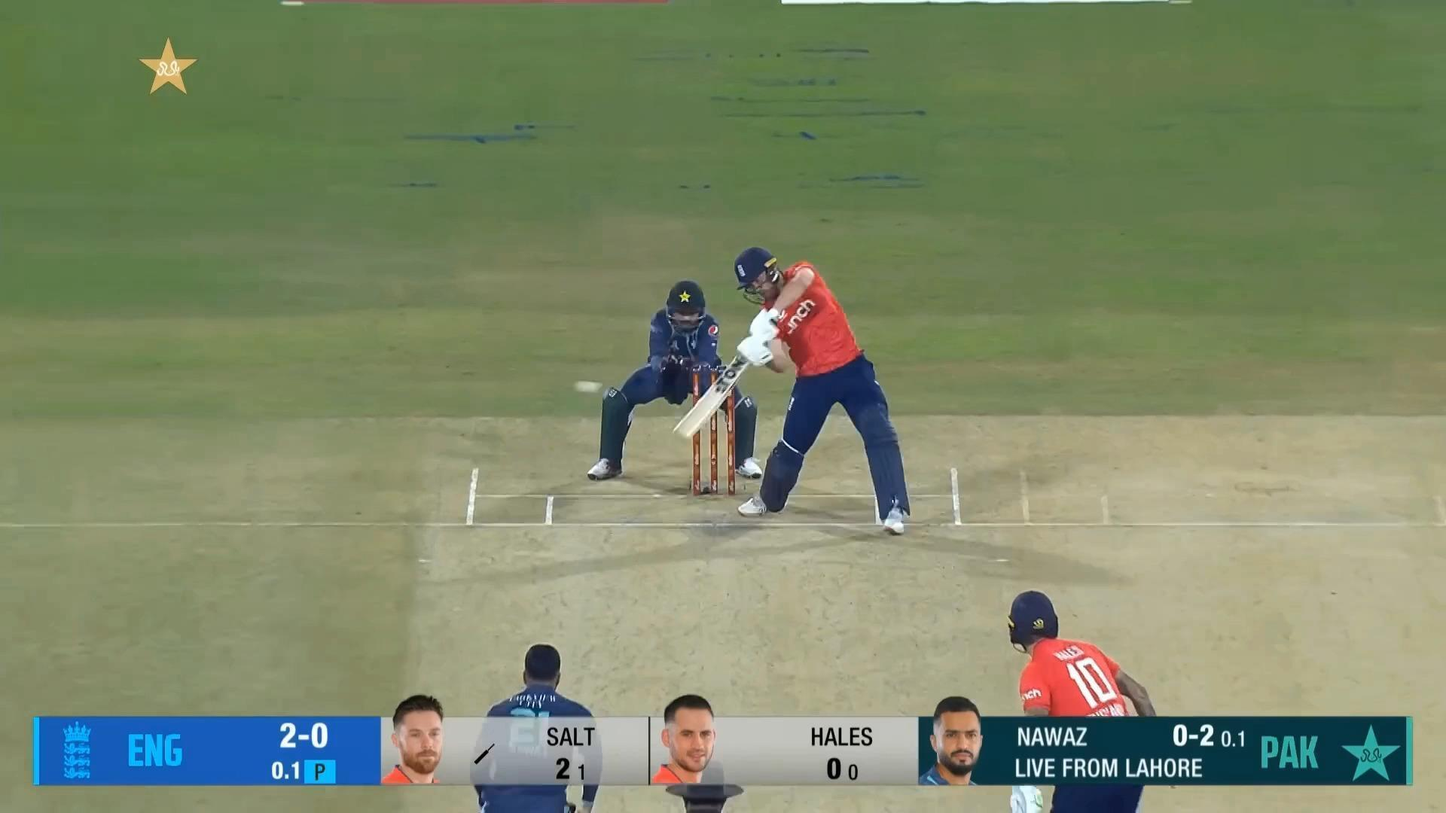BM 1: (673, 246, 911, 535)
BO: (469, 633, 603, 813)
